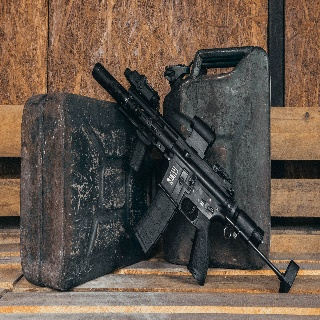rifle: (91, 60, 302, 295)
